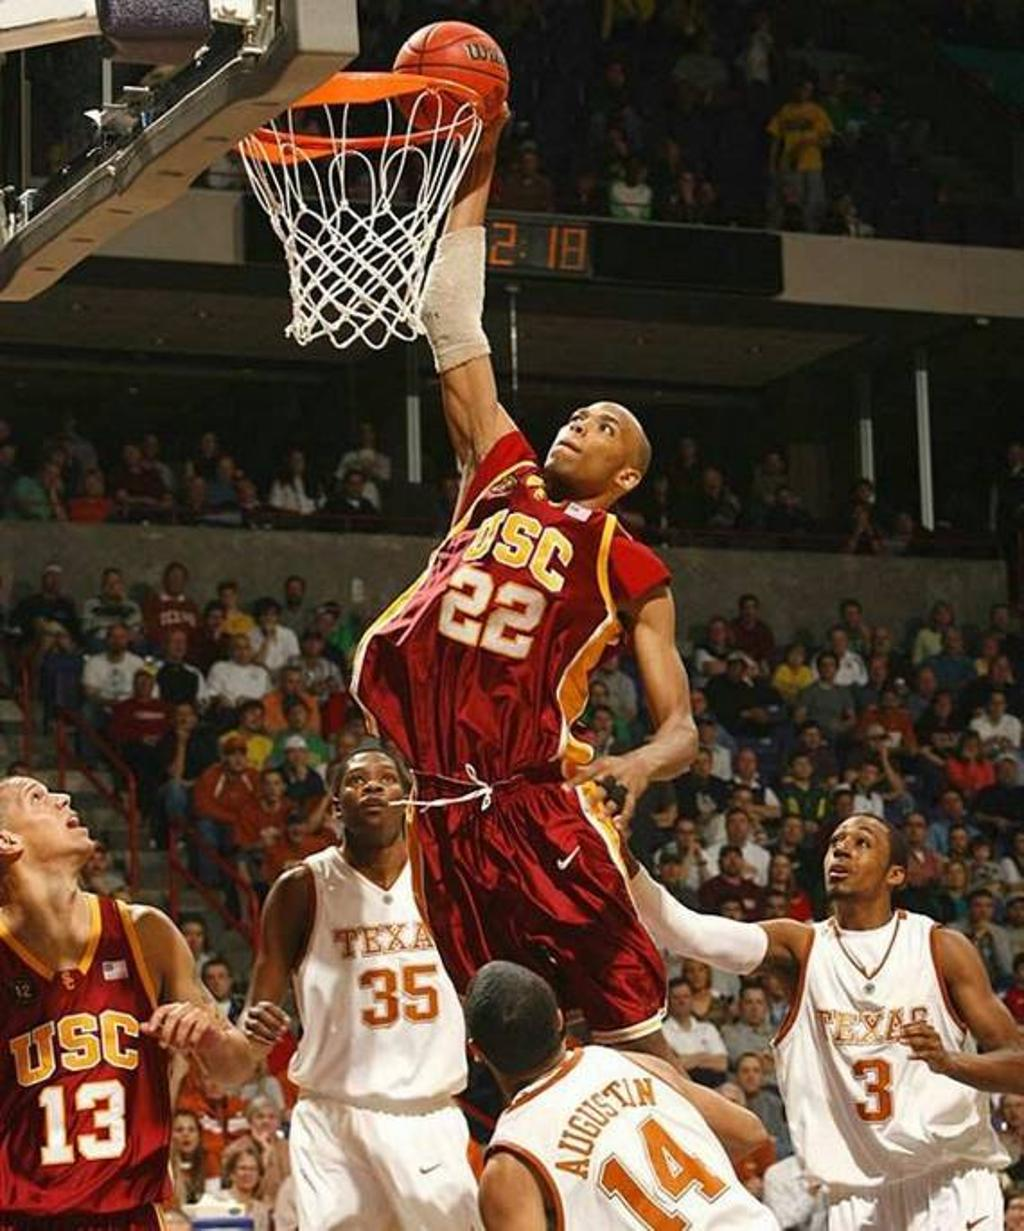face: (1, 780, 98, 855), (546, 403, 634, 481), (343, 759, 403, 827), (173, 1117, 199, 1152), (738, 1059, 762, 1094), (181, 924, 204, 960), (251, 1103, 276, 1135), (741, 992, 764, 1024), (204, 969, 230, 998), (236, 1158, 258, 1190), (1003, 1096, 1024, 1127), (686, 960, 708, 989), (653, 799, 676, 827), (670, 987, 691, 1017), (1008, 1193, 1024, 1231), (264, 774, 284, 802), (721, 851, 743, 876), (226, 744, 246, 771), (783, 818, 803, 844), (729, 813, 748, 839), (868, 725, 888, 749), (677, 823, 696, 848), (289, 816, 307, 842), (593, 713, 612, 736), (661, 857, 680, 881), (972, 898, 990, 922), (693, 753, 710, 778), (767, 897, 785, 922), (287, 742, 307, 765), (771, 860, 790, 882), (697, 718, 715, 741), (907, 817, 926, 840), (233, 638, 250, 663), (176, 707, 193, 731), (998, 758, 1016, 782), (45, 569, 64, 591), (168, 634, 186, 656), (943, 631, 962, 653), (136, 673, 153, 696), (261, 605, 278, 629), (306, 631, 323, 654), (168, 569, 185, 593), (734, 790, 751, 814), (589, 686, 606, 709), (238, 479, 255, 501), (782, 490, 805, 506), (286, 673, 303, 696), (702, 32, 718, 55), (722, 906, 741, 925), (244, 708, 263, 728), (607, 126, 625, 146), (1009, 899, 1024, 923), (740, 755, 757, 776), (962, 740, 979, 762), (706, 475, 722, 499), (794, 758, 812, 777), (945, 793, 963, 814), (351, 716, 367, 737), (935, 696, 951, 718), (803, 727, 820, 748), (343, 738, 359, 761), (711, 623, 727, 645), (109, 630, 126, 650), (289, 705, 306, 726), (819, 658, 835, 679), (727, 658, 743, 679), (836, 797, 852, 818), (862, 765, 878, 785), (895, 511, 911, 533), (609, 64, 624, 86), (655, 482, 669, 504), (935, 604, 951, 624), (947, 865, 964, 884), (218, 461, 233, 482), (989, 695, 1005, 716), (952, 831, 968, 852), (884, 691, 899, 712), (125, 443, 139, 464), (208, 609, 223, 631), (221, 587, 235, 608), (875, 630, 889, 651), (49, 455, 65, 473), (741, 600, 756, 620), (831, 631, 846, 650), (348, 476, 363, 497), (288, 581, 303, 601), (105, 574, 120, 594), (523, 154, 538, 175), (871, 660, 885, 681), (993, 610, 1008, 631), (691, 693, 705, 714), (936, 731, 950, 751), (789, 646, 804, 665), (204, 433, 218, 454), (631, 161, 644, 181), (679, 87, 692, 107), (768, 453, 785, 469), (291, 452, 304, 473), (700, 184, 713, 203), (1005, 448, 1019, 465), (920, 674, 934, 691), (681, 439, 694, 457), (845, 605, 858, 624), (975, 845, 990, 860), (362, 425, 376, 442), (62, 409, 77, 425), (982, 640, 996, 656), (849, 508, 863, 526), (146, 439, 158, 457), (868, 92, 880, 110), (799, 84, 814, 98), (833, 74, 845, 91), (3, 449, 15, 465), (1016, 833, 1024, 856), (185, 460, 195, 476), (858, 485, 870, 498), (2, 421, 11, 437)
